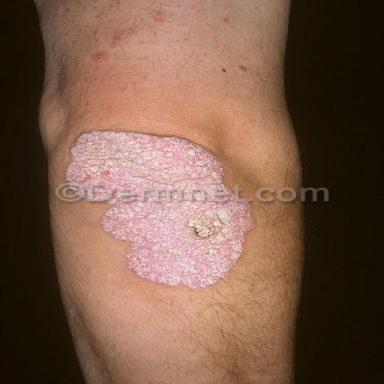Psoriasis: (101, 204, 255, 290), (65, 130, 225, 188)
